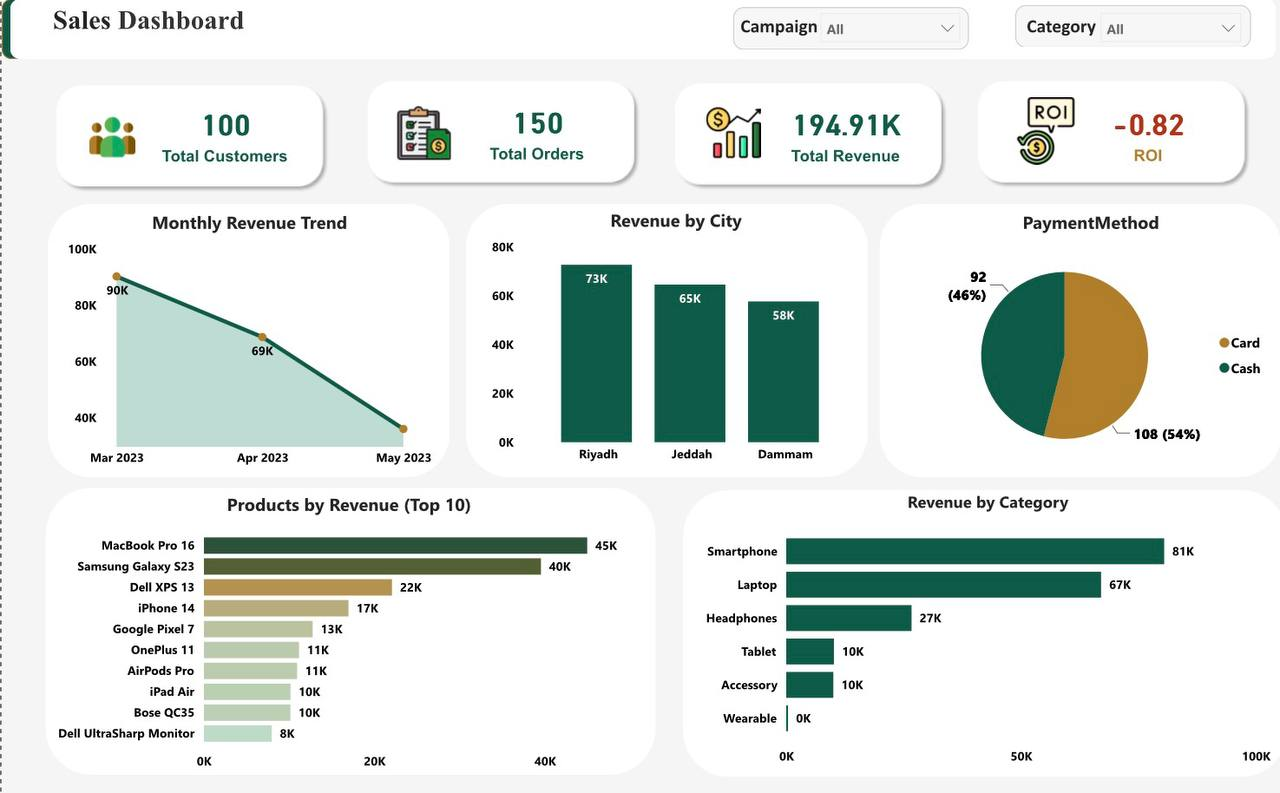

Layout of this report page (visuals, bound fields, positions):
{"tool":"powerbi","page":{"name":"Page 1","canvas":[1300,800],"ordinal":0},"visuals":[{"type":"shape","box":[871.9,212.5,400,272.5],"z":0},{"type":"shape","box":[461.6,212.5,400,272.5],"z":1000},{"type":"shape","box":[45.4,212.5,400,272.5],"z":2000},{"type":"shape","box":[678.4,496.7,600.8,285.7],"z":3000},{"type":"shape","box":[44,495.3,606.6,285.7],"z":4000},{"type":"stackedAreaChart","title":"Monthly Revenue Trend","fields":{"Category":["vw_SalesAnalysis.OrderDate.Variation.Date Hierarchy.Year","vw_SalesAnalysis.OrderDate.Variation.Date Hierarchy.Month"],"Y":["vw_BudgetAnal.Total Revenue"]},"box":[60.1,218.3,372.2,265.2],"z":5000},{"type":"clusteredBarChart","title":"Revenue by Category","fields":{"Category":["vw_SalesAnalysis.Category"],"Y":["vw_BudgetAnal.Total Revenue"]},"box":[693.1,496.7,572.9,284.3],"z":6000},{"type":"clusteredColumnChart","title":"Revenue by City","fields":{"Category":["vw_SalesAnalysis.City"],"Y":["vw_BudgetAnal.Total Revenue"]},"box":[482.1,216.9,376.6,263.8],"z":7000},{"type":"pieChart","title":"PaymentMethod","fields":{"Category":["vw_SalesAnalysis.PaymentMethod"],"Y":["CountNonNull(vw_SalesAnalysis.PaymentMethod)"]},"box":[899.7,218.3,366.3,265.2],"z":8000},{"type":"shape","box":[0,7.3,1266,60.1],"z":9000},{"type":"clusteredBarChart","title":"Products by Revenue (Top 10)","fields":{"Y":["vw_BudgetAnal.Total Revenue"],"Category":["vw_SalesAnalysis.ProductName"]},"box":[60.1,495.3,590.5,285.7],"z":10000},{"type":"shape","box":[7.3,7.3,1258.7,60.1],"z":11000},{"type":"shape","box":[45.4,85,282.8,118.7],"z":12000},{"type":"card","fields":{"Values":["vw_BudgetAnal.Total Customers"]},"box":[131.9,92.3,183.2,99.6],"z":13000},{"type":"shape","box":[354.8,81.5,282.8,118.7],"z":14000},{"type":"card","fields":{"Values":["vw_SalesAnalysis.Total Orders"]},"box":[439.8,91.8,184.6,95.2],"z":15000},{"type":"shape","box":[659.7,82.7,282.8,118.7],"z":16000},{"type":"card","fields":{"Values":["vw_BudgetAnal.Total Revenue"]},"box":[747.7,92.9,183.2,95.2],"z":17000},{"type":"shape","box":[962.2,82,282.8,118.7],"z":18000},{"type":"card","fields":{"Values":["vw_BudgetAnal.ROI"]},"box":[1042.8,86.4,193.4,107],"z":19000},{"type":"shape","box":[1008.1,14.7,234.4,42.5],"z":20000},{"type":"slicer","fields":{"Values":["vw_SalesAnalysis.Category"]},"box":[1082.9,11.7,159.7,41],"z":21000},{"type":"textbox","box":[1014.5,18,176.9,45.6],"z":22000},{"type":"shape","box":[728.3,16.1,234.4,42.5],"z":23000},{"type":"slicer","fields":{"Values":["vw_MarketingCampaigns.CampaignID"]},"box":[804.4,12.4,159,48.4],"z":24000},{"type":"textbox","box":[728.4,19.4,96.8,42.8],"z":25000},{"type":"textbox","box":[45.6,8.3,279.2,66.3],"z":26000},{"type":"image","box":[686.1,114.9,83.5,54.2],"z":27000},{"type":"image","box":[379.7,113.8,79.1,55.7],"z":28000},{"type":"image","box":[86.5,99.6,45.4,92.3],"z":29000},{"type":"image","box":[1002.1,105,73.3,67.7],"z":30000}]}

Visuals, with their boxes in screenshot pixels (x1, y1, x2, y2), scaled from the page's 1300x800 canvas onto the 1280x793 screenshot:
shape: <box>858,211,1252,481</box>
shape: <box>454,211,848,481</box>
shape: <box>45,211,439,481</box>
shape: <box>668,492,1260,776</box>
shape: <box>43,491,641,774</box>
"Monthly Revenue Trend" stackedAreaChart: <box>59,216,426,479</box>
"Revenue by Category" clusteredBarChart: <box>682,492,1247,774</box>
"Revenue by City" clusteredColumnChart: <box>475,215,845,476</box>
"PaymentMethod" pieChart: <box>886,216,1247,479</box>
shape: <box>0,7,1247,67</box>
"Products by Revenue (Top 10)" clusteredBarChart: <box>59,491,641,774</box>
shape: <box>7,7,1247,67</box>
shape: <box>45,84,323,202</box>
card - vw_BudgetAnal.Total Customers: <box>130,91,310,190</box>
shape: <box>349,81,628,198</box>
card - vw_SalesAnalysis.Total Orders: <box>433,91,615,185</box>
shape: <box>650,82,928,200</box>
card - vw_BudgetAnal.Total Revenue: <box>736,92,917,186</box>
shape: <box>947,81,1226,199</box>
card - vw_BudgetAnal.ROI: <box>1027,86,1217,192</box>
shape: <box>993,15,1223,57</box>
slicer - vw_SalesAnalysis.Category: <box>1066,12,1223,52</box>
textbox: <box>999,18,1173,63</box>
shape: <box>717,16,948,58</box>
slicer - vw_MarketingCampaigns.CampaignID: <box>792,12,949,60</box>
textbox: <box>717,19,813,62</box>
textbox: <box>45,8,320,74</box>
image: <box>676,114,758,168</box>
image: <box>374,113,452,168</box>
image: <box>85,99,130,190</box>
image: <box>987,104,1059,171</box>
